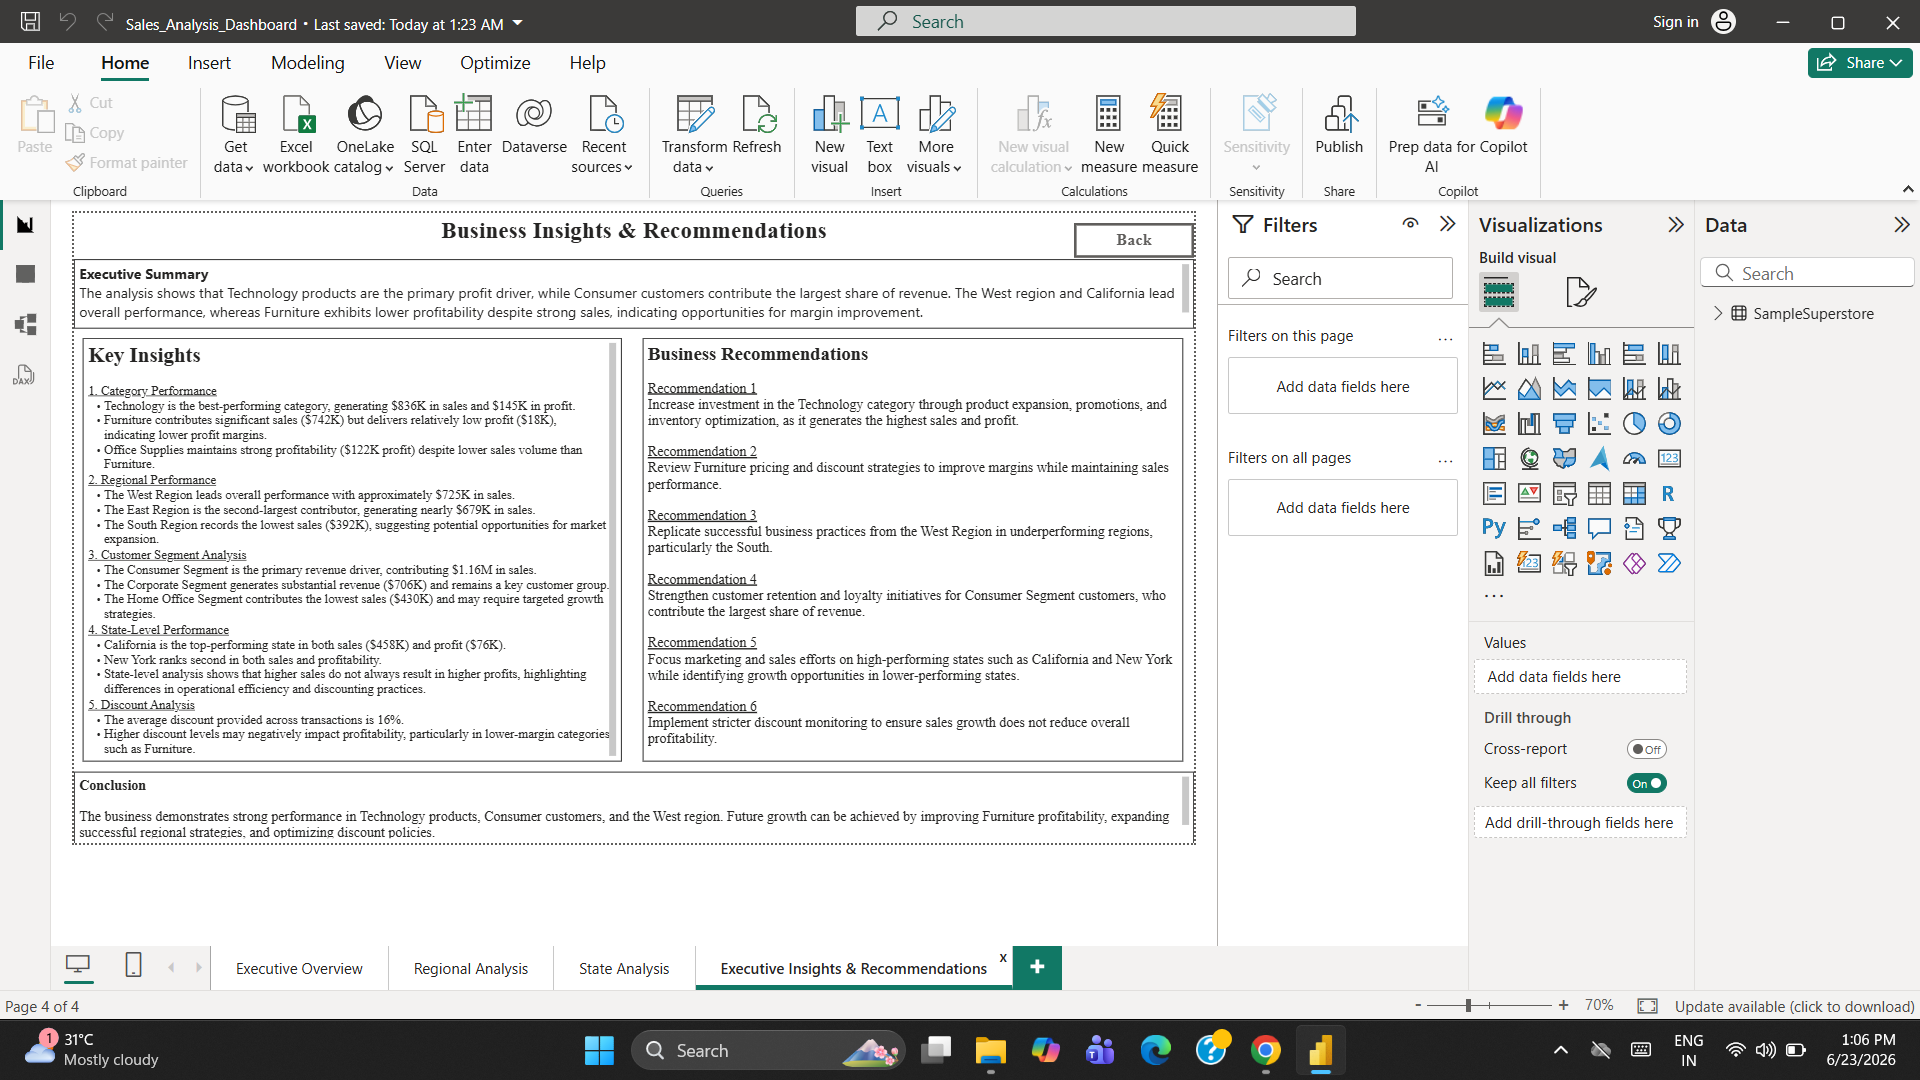

This screenshot's page, from the dashboard's own definition file:
{"tool":"powerbi","page":{"name":"Executive Insights & Recommendations","canvas":[1280,720],"ordinal":3},"visuals":[{"type":"textbox","box":[9.6,142.7,616.1,484.4],"z":0},{"type":"textbox","box":[650.4,142.7,617.5,484.4],"z":1},{"type":"textbox","box":[0,0,1280.3,63.1],"z":2},{"type":"textbox","box":[0,53.5,1280.3,79.6],"z":3},{"type":"textbox","box":[0,638.1,1280.3,82.3],"z":4},{"type":"actionButton","box":[1143.1,11,137.2,39.8],"z":5}]}

Visuals, with their boxes on the page's 1280x720 design canvas (x1, y1, x2, y2). These are canvas units, not pixel positions in the 1920x1080 screenshot, which may show the page scaled, cropped or inside an application window:
textbox: <bbox>10, 143, 626, 627</bbox>
textbox: <bbox>650, 143, 1268, 627</bbox>
textbox: <bbox>0, 0, 1280, 63</bbox>
textbox: <bbox>0, 54, 1280, 133</bbox>
textbox: <bbox>0, 638, 1280, 720</bbox>
actionButton: <bbox>1143, 11, 1280, 51</bbox>
